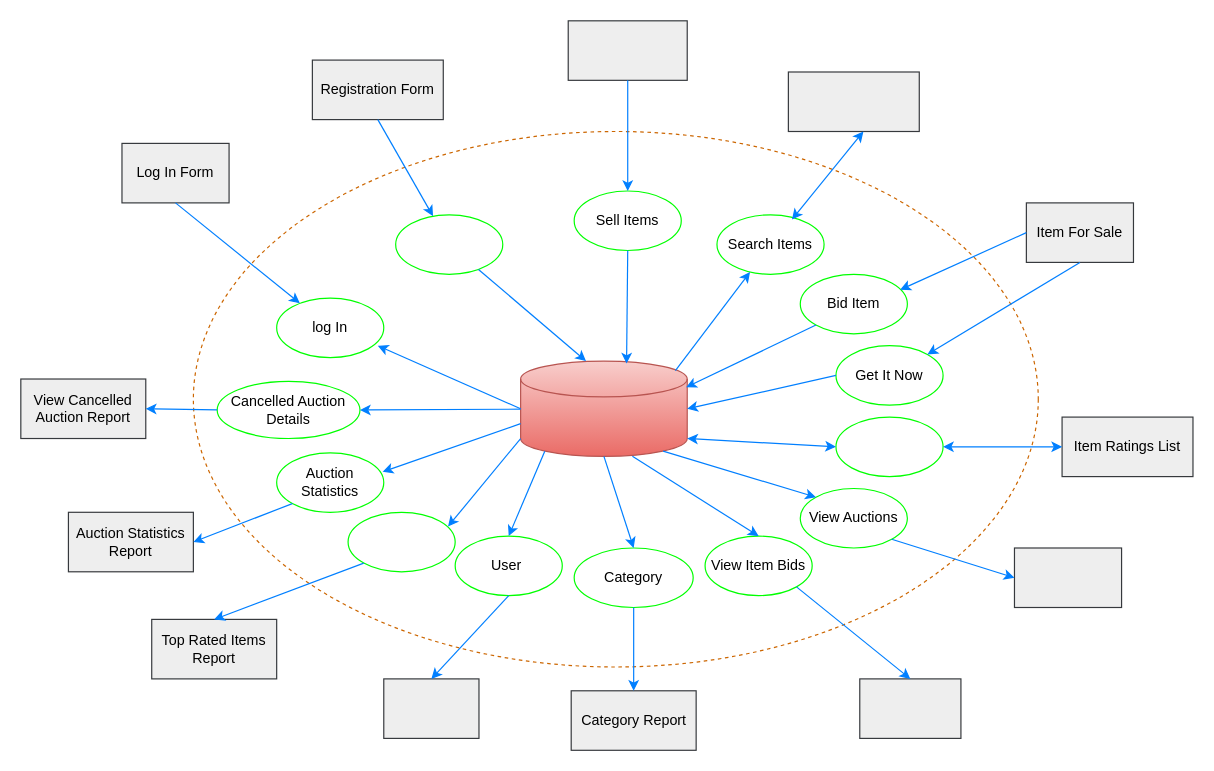
Some shapes in this 1214 by 771 pixel diagram are drawn without their labels. Here are the shapes that lost their labels. From the top down, the centre of each, then its label:
At pixel 627 50: "New Item Form".
At pixel 853 101: "Item Search/Results".
At pixel 448 244: "Register".
At pixel 603 408: "Database".
At pixel 889 446: "View Ratings".
At pixel 401 541: "Top Rated Items".
At pixel 1067 577: "Auction List".
At pixel 431 708: "User Report".
At pixel 910 708: "Item Bid List".
